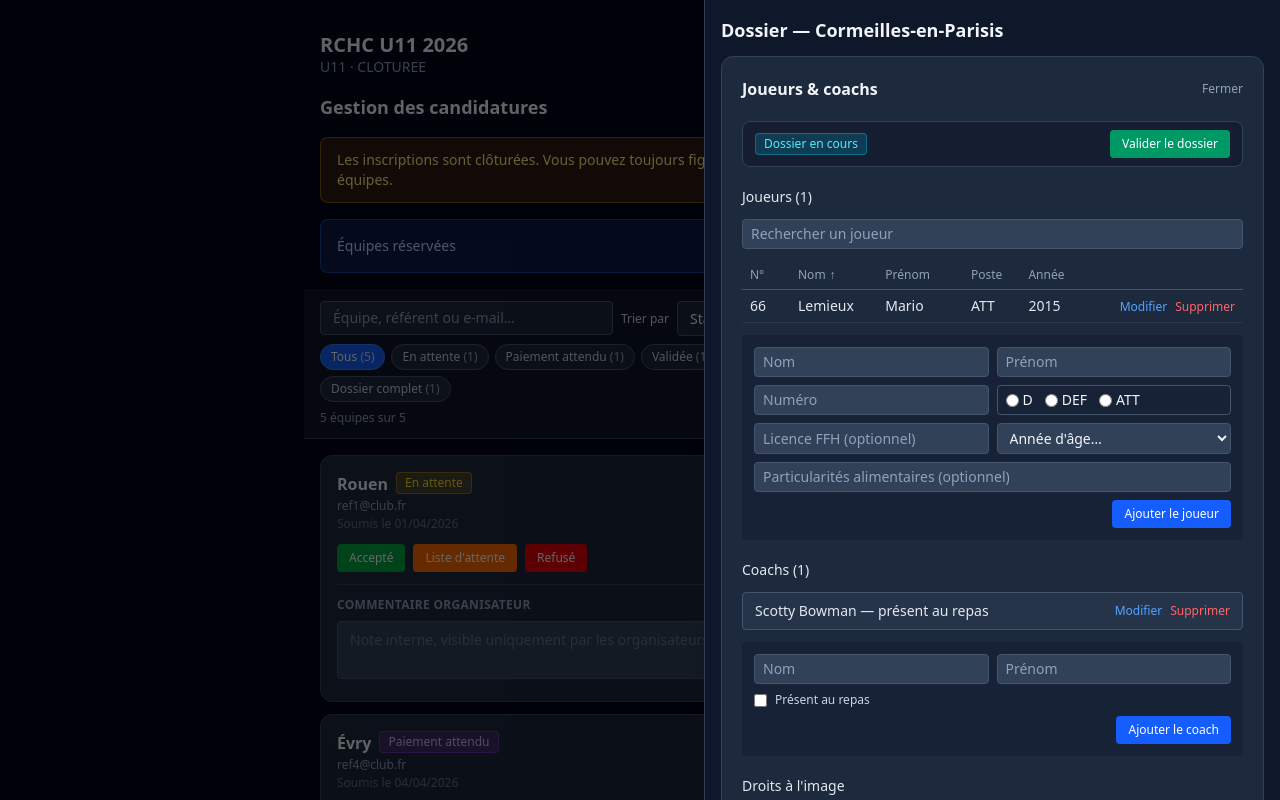
Liste admin — accès au dossier (backlog 2, lot A) › rouvre le panneau directement depuis l'URL (F5) et permet de valider le dossier
What coordinates should you click on to do the following:
click the button "Valider le dossier"
I would click on:
 (1170, 144)
Its box is [1110, 130, 1230, 158].
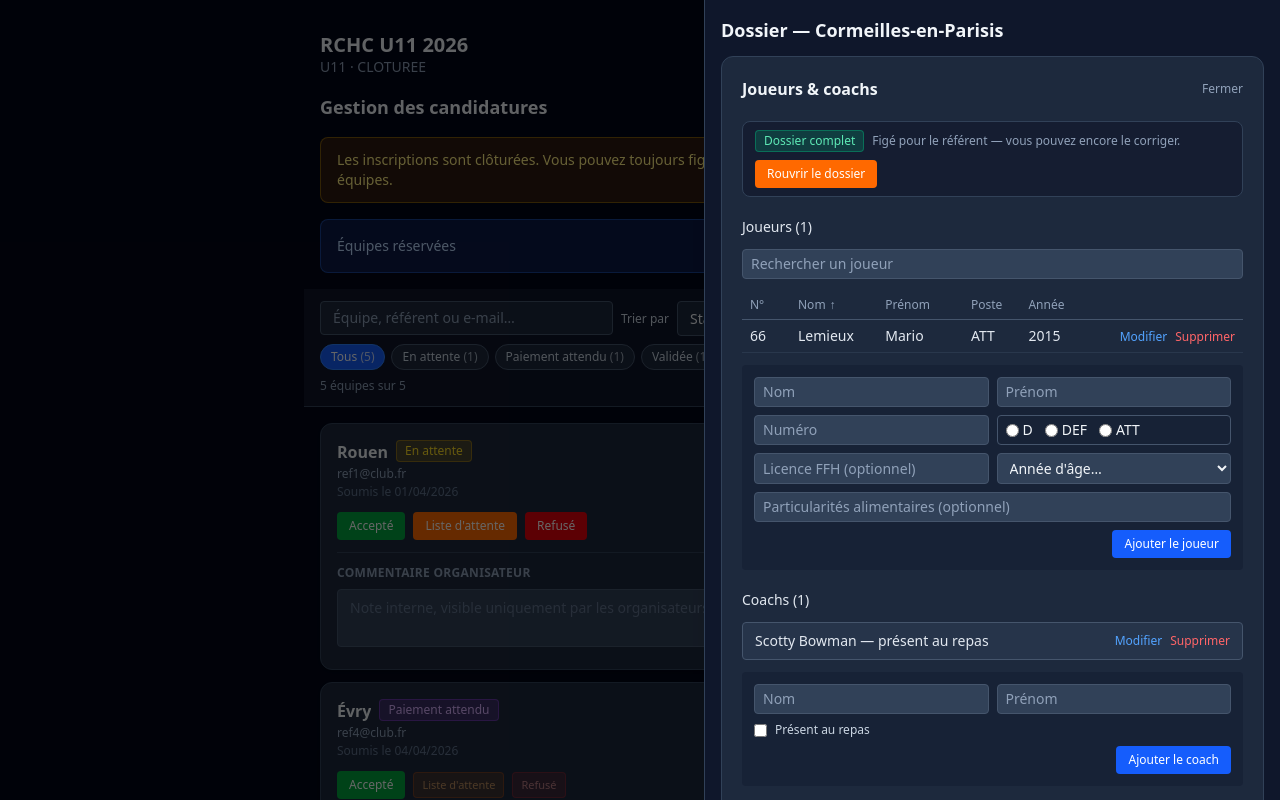
Expected: the button "Ajouter le joueur" is shown, [1112, 530, 1231, 558]
Now the button "Rouvrir le dossier" is shown, box [755, 160, 877, 188]
